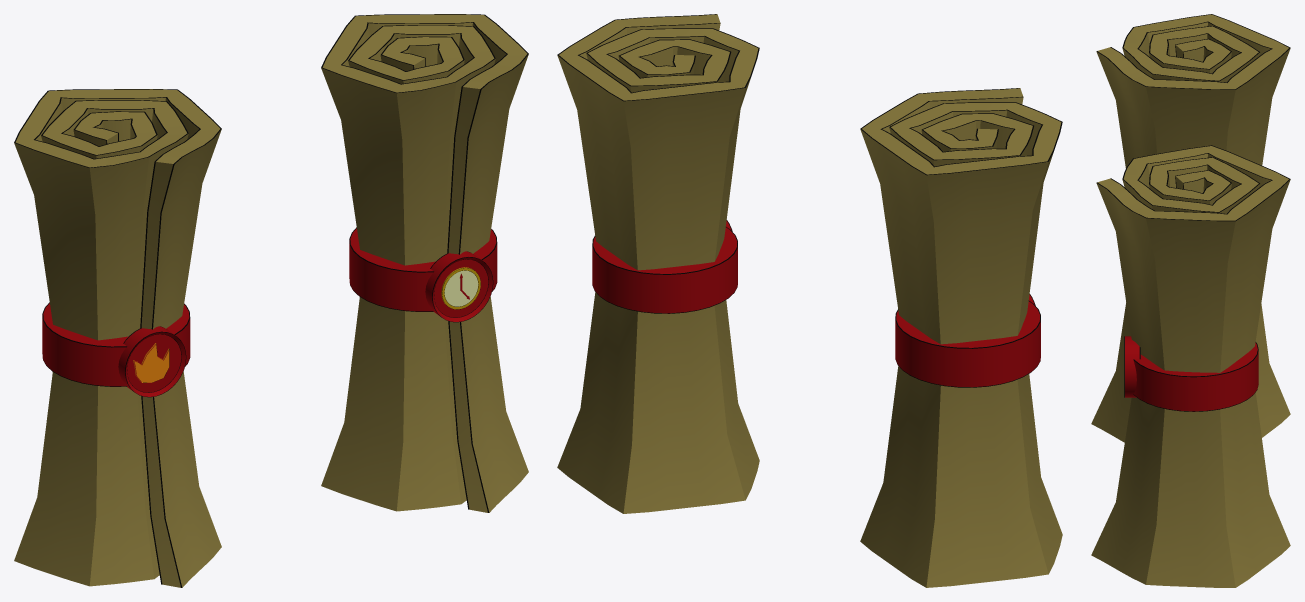
The model's file is fire scroll-samuelgragg.fbx.
3 views of the same model, side by side, from view 1: azimuth 30°, elevation 25°; view 2: azimuth 150°, elevation 25°; view 3: azimuth 270°, elevation 25° (orthographic). The views are drawn at different scales.
Parts seen in each view (by area): view 1: Plane.004, Plane, Cylinder, Cylinder.003, Cylinder.001, Cylinder.004, Cylinder.002, Plane.001; view 2: Plane, Plane.004, Cylinder.003, Cylinder; view 3: Plane.004, Plane, Cylinder.003, Cylinder.004.
Boxes of the visible parts, x1,y1,x2,y2 form: Plane.004: [321, 14, 528, 512]; Plane: [14, 89, 221, 587]; Cylinder: [42, 302, 190, 386]; Cylinder.003: [349, 227, 497, 311]; Cylinder.001: [118, 326, 186, 397]; Cylinder.004: [425, 251, 493, 322]; Cylinder.002: [441, 267, 480, 309]; Plane.001: [133, 343, 169, 382]; Plane: [860, 88, 1062, 587]; Plane.004: [557, 14, 759, 513]; Cylinder.003: [592, 227, 737, 313]; Cylinder: [895, 300, 1040, 387]; Plane.004: [1091, 145, 1290, 587]; Plane: [1091, 14, 1290, 442]; Cylinder.003: [1133, 342, 1258, 411]; Cylinder.004: [1124, 336, 1140, 397].
Bounding box in the file's own units: 203 × 169 × 82.59.
